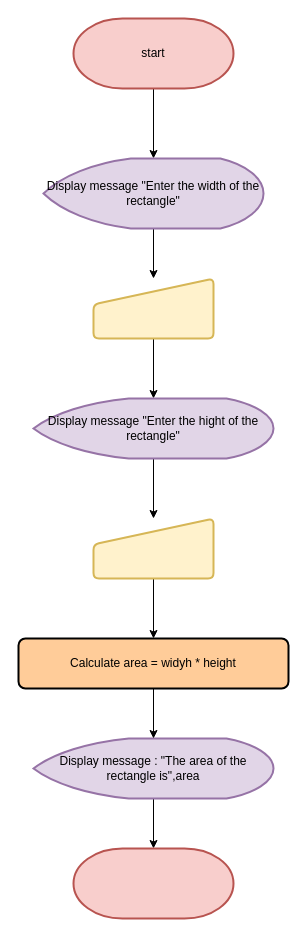
This 306x936 diagram has some shape labels left out. Here are the shapes that lost their labels. From the top down, the centre of each, then its label:
At pixel 153 308: "Read width input".
At pixel 153 548: "Read height input".
At pixel 153 883: "Stop".
